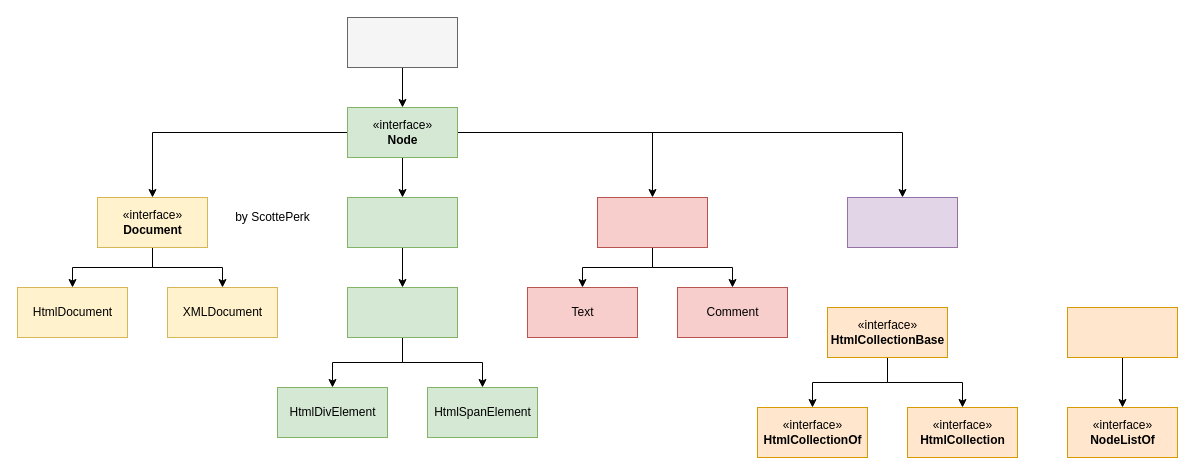
Image size: 1195x475. Some labels were removed from this diagram. The centre of each missing label's shape, as x and y in pixels:
«interface» Attr: the point at 902,222
«interface» CharacterData: the point at 652,222
«interface» Element: the point at 402,222
«interface» EventTarget: the point at 402,42
«interface» HtmlElement: the point at 402,312
«interface» NodeList: the point at 1122,332
